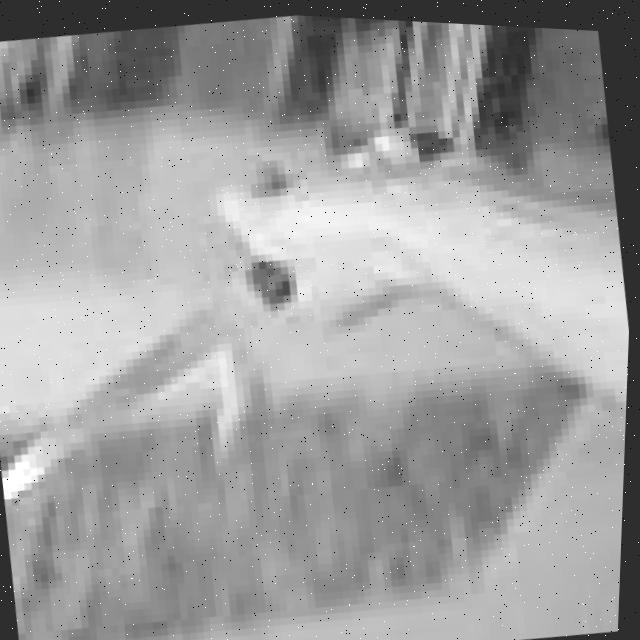knife: (0, 244, 323, 546)
